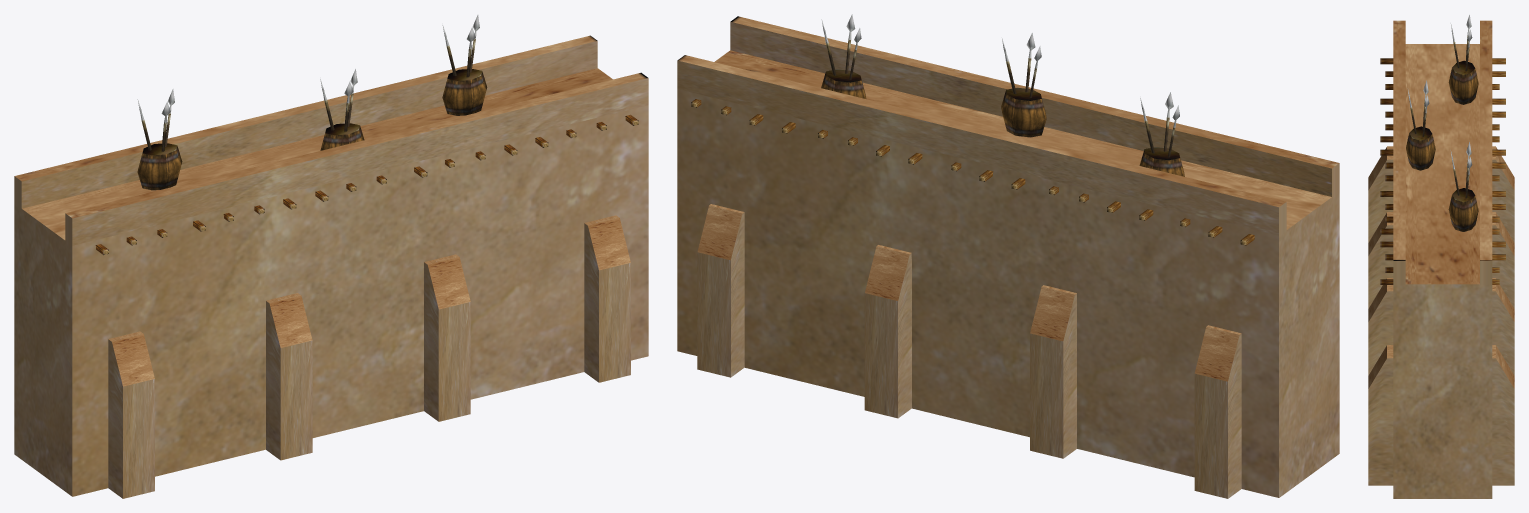
File: wall_long.dae
The picture shows the model from 3 angles, left to right: view 1: azimuth 30°, elevation 25°; view 2: azimuth 150°, elevation 25°; view 3: azimuth 270°, elevation 25°; orthographic projection. The views are drawn at different scales.
Parts seen in each view (by area): view 1: liby_wall_long; view 2: liby_wall_long; view 3: liby_wall_long.
Part boxes in pixels (box(x1,y1,x2,y2)): liby_wall_long: box(14, 15, 648, 498); liby_wall_long: box(677, 14, 1339, 498); liby_wall_long: box(1368, 15, 1514, 498).
Bounding box in the file's own units: 36.3 × 9.36 × 20.47.
